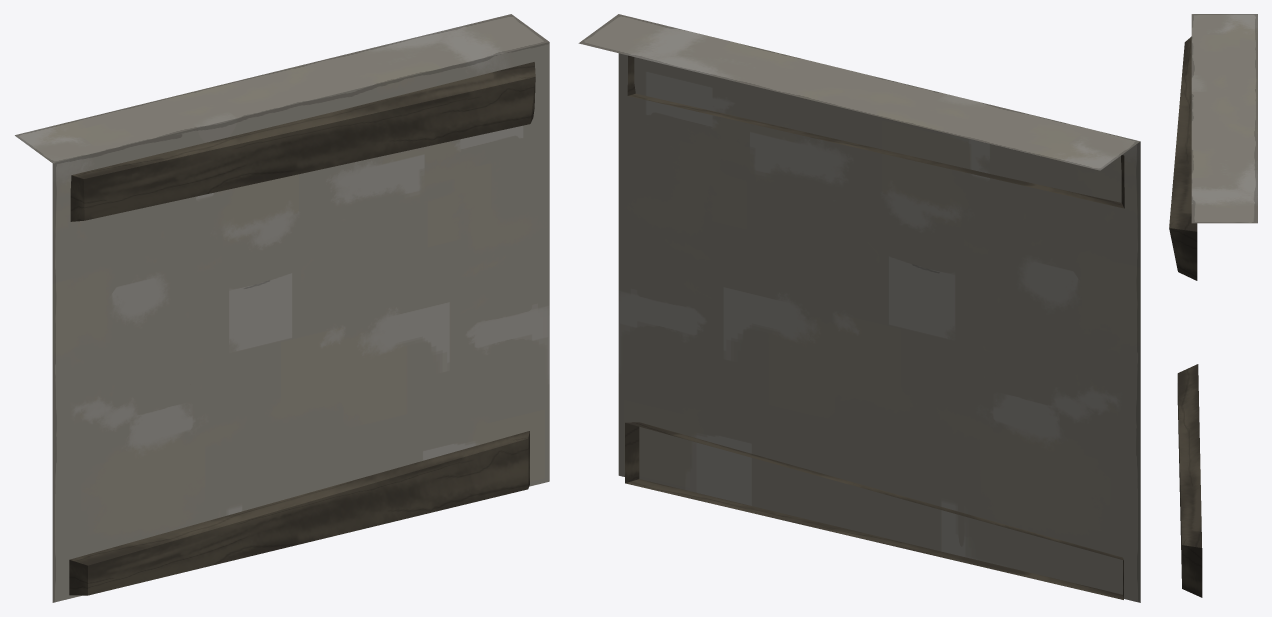
File: childRoom_wall_outer02.fbx
3 renders of one model, left to right at view 1: azimuth 30°, elevation 25°; view 2: azimuth 150°, elevation 25°; view 3: azimuth 270°, elevation 25°, orthographic. The views are drawn at different scales.
Visible parts, largest first — view 1: cons_wall_outer02; view 2: cons_wall_outer02; view 3: cons_wall_outer02.
Boxes of the visible parts, left/top/right/bottom form: cons_wall_outer02: left=15, top=14, right=549, bottom=602; cons_wall_outer02: left=578, top=14, right=1140, bottom=602; cons_wall_outer02: left=1169, top=14, right=1257, bottom=597.
Size of the model in its own units: 300 by 254 by 53.72.
